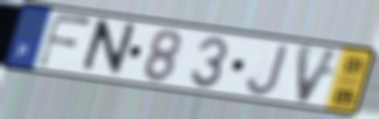3: (188, 35, 230, 90)
8: (142, 28, 185, 84)
F: (35, 10, 95, 71)
J: (244, 42, 291, 98)
N: (76, 17, 140, 79)
V: (294, 42, 344, 107)
